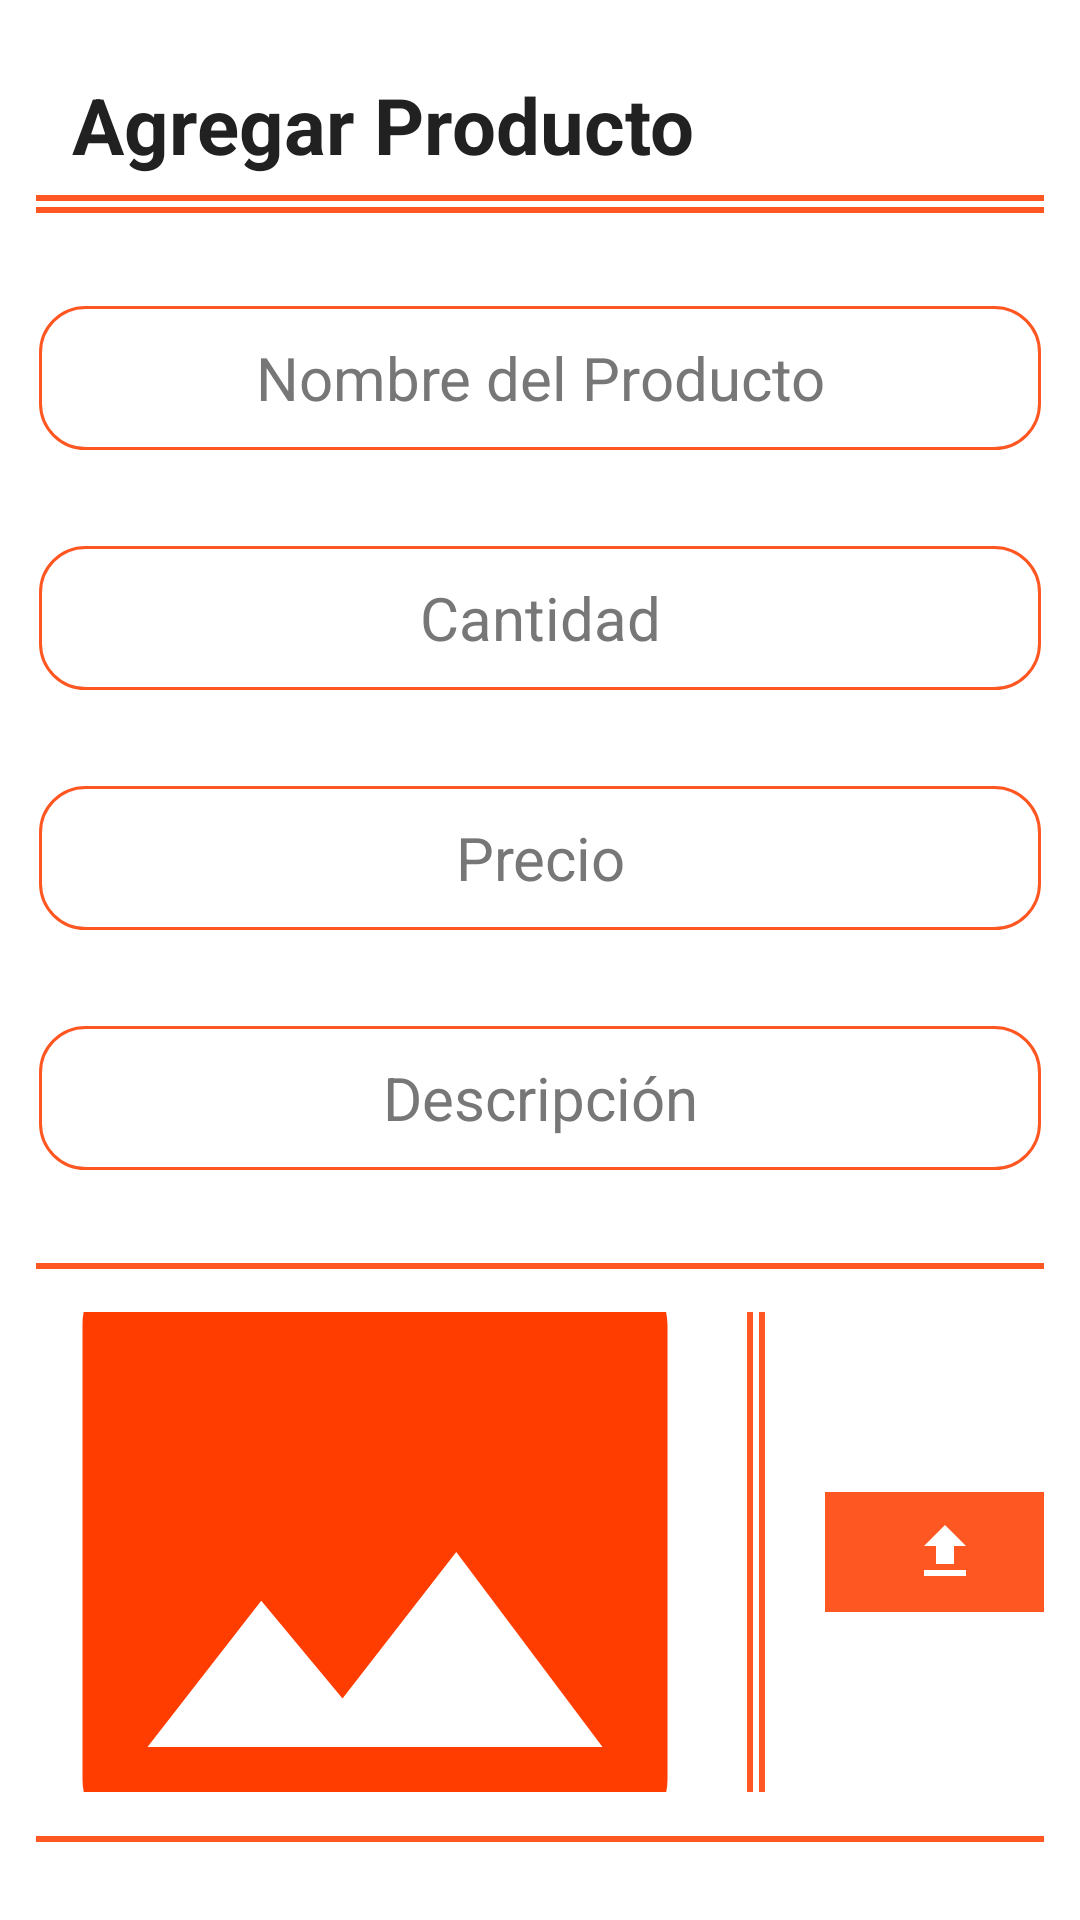

Icons on this 1080w x 1920h Android screen, each with the point to tap as (x=x, y=y):
upload: (x=934, y=1552)
